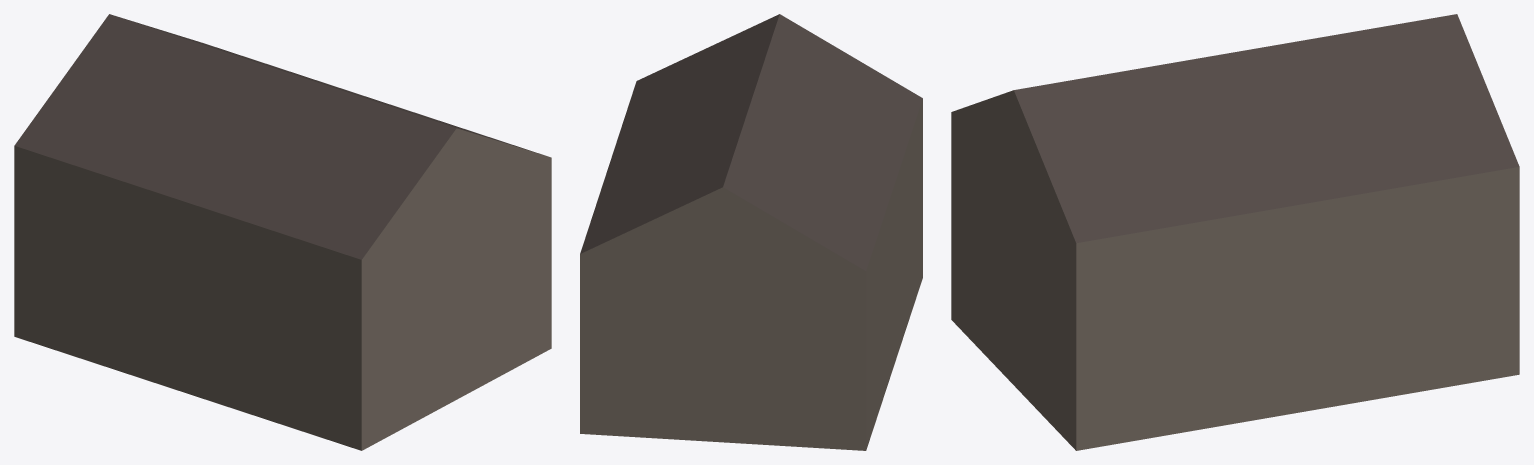
3 views of the same model, side by side, from view 1: azimuth 30°, elevation 25°; view 2: azimuth 150°, elevation 25°; view 3: azimuth 270°, elevation 25° (orthographic). The views are drawn at different scales.
Visible parts, largest first — view 1: HP-w1200774748; view 2: HP-w1200774748; view 3: HP-w1200774748.
Boxes of the visible parts, box(x1,y1,x2,y2) form: HP-w1200774748: box(14, 14, 551, 450); HP-w1200774748: box(580, 14, 922, 450); HP-w1200774748: box(951, 14, 1519, 450).
Size of the model in its own units: 12.84 by 8.53 by 14.88.
